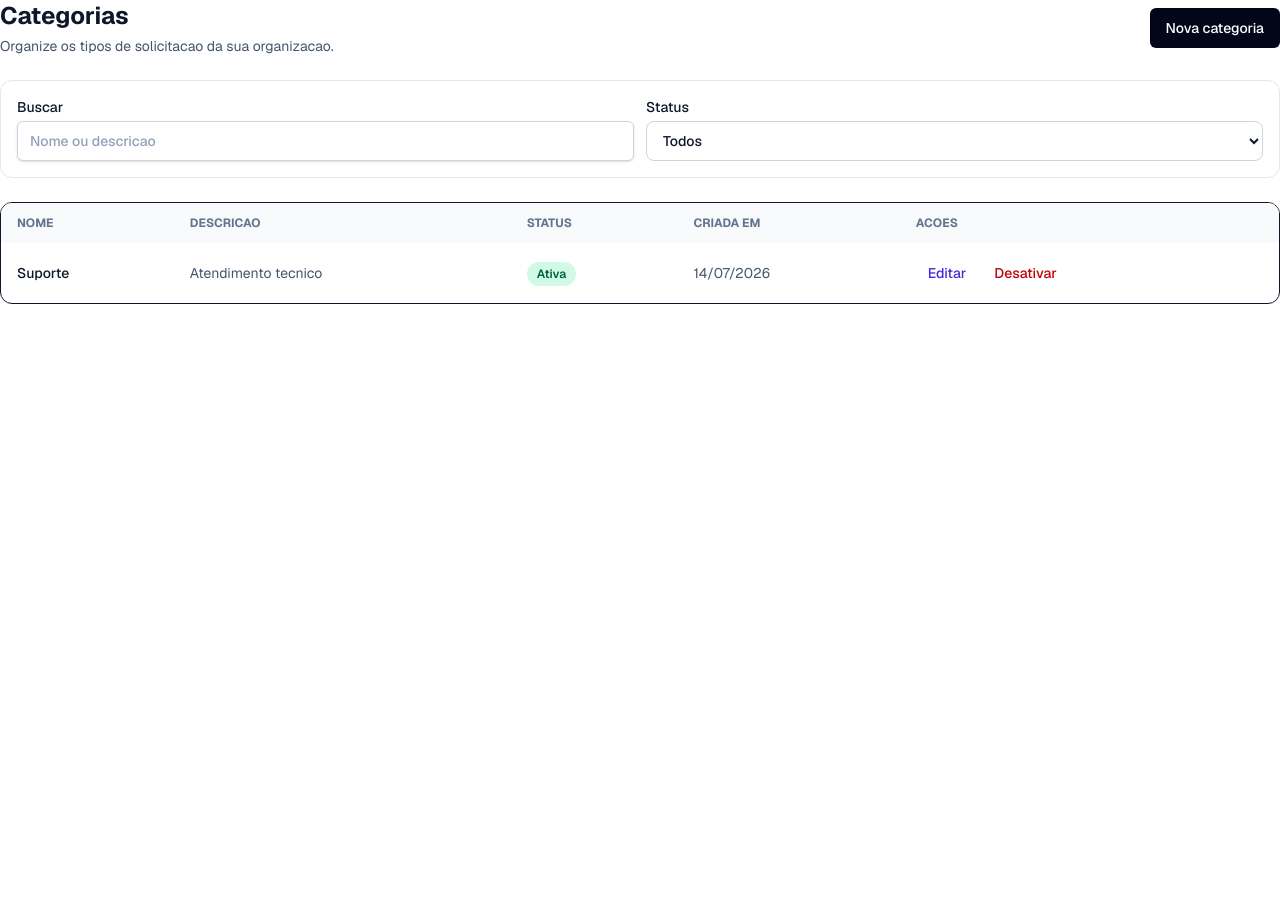
Test: gerenciamento de categorias › cria categoria normalizando descricao vazia para null
The image size is (1280, 900).
Expected: the text "Suporte" is shown, [1,243,174,303]
Click the button "Nova categoria" at (1215, 28), box [1150,8,1279,48]
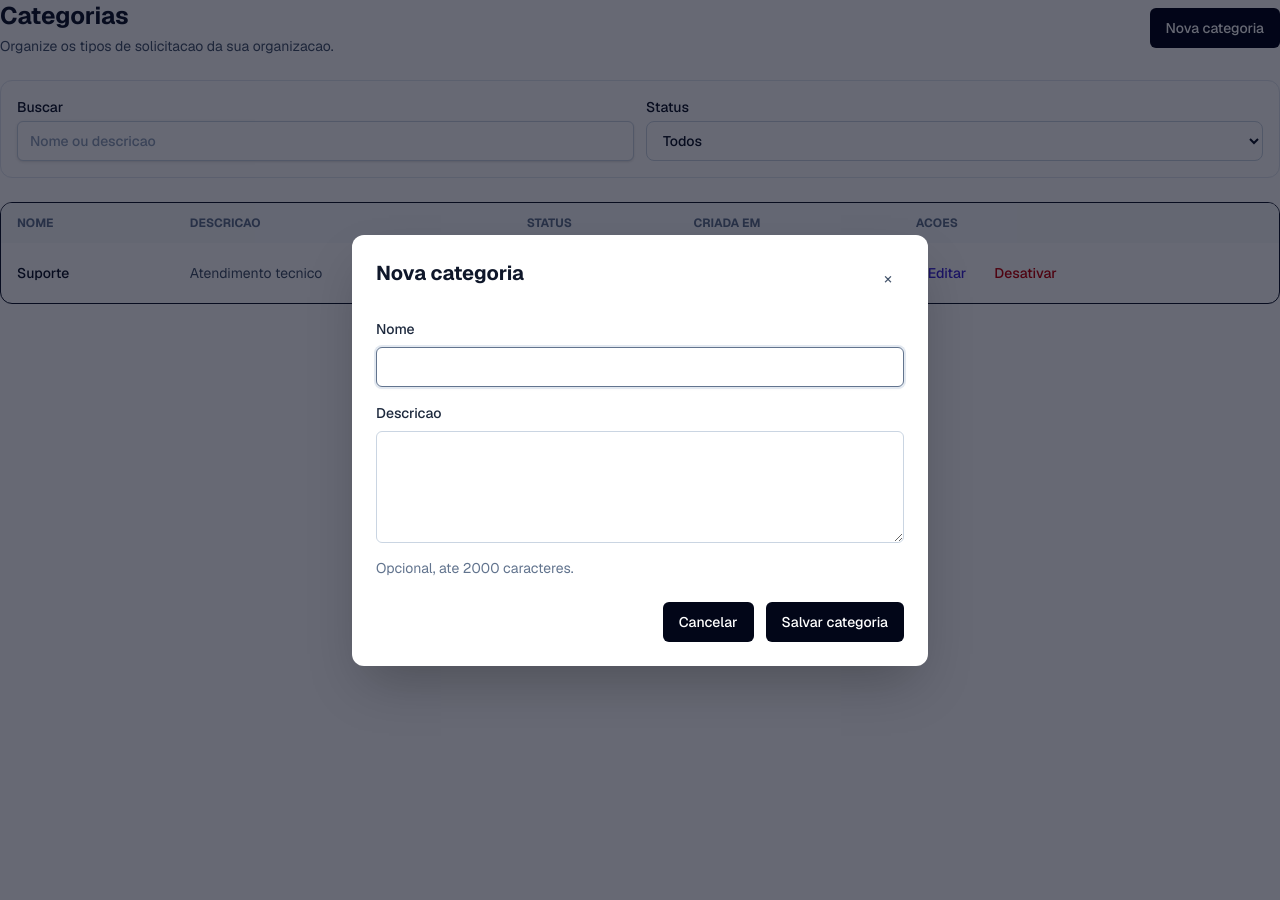
Type "Financeiro" into the field labelled "Nome" at (640, 366), box [376,346,904,386]
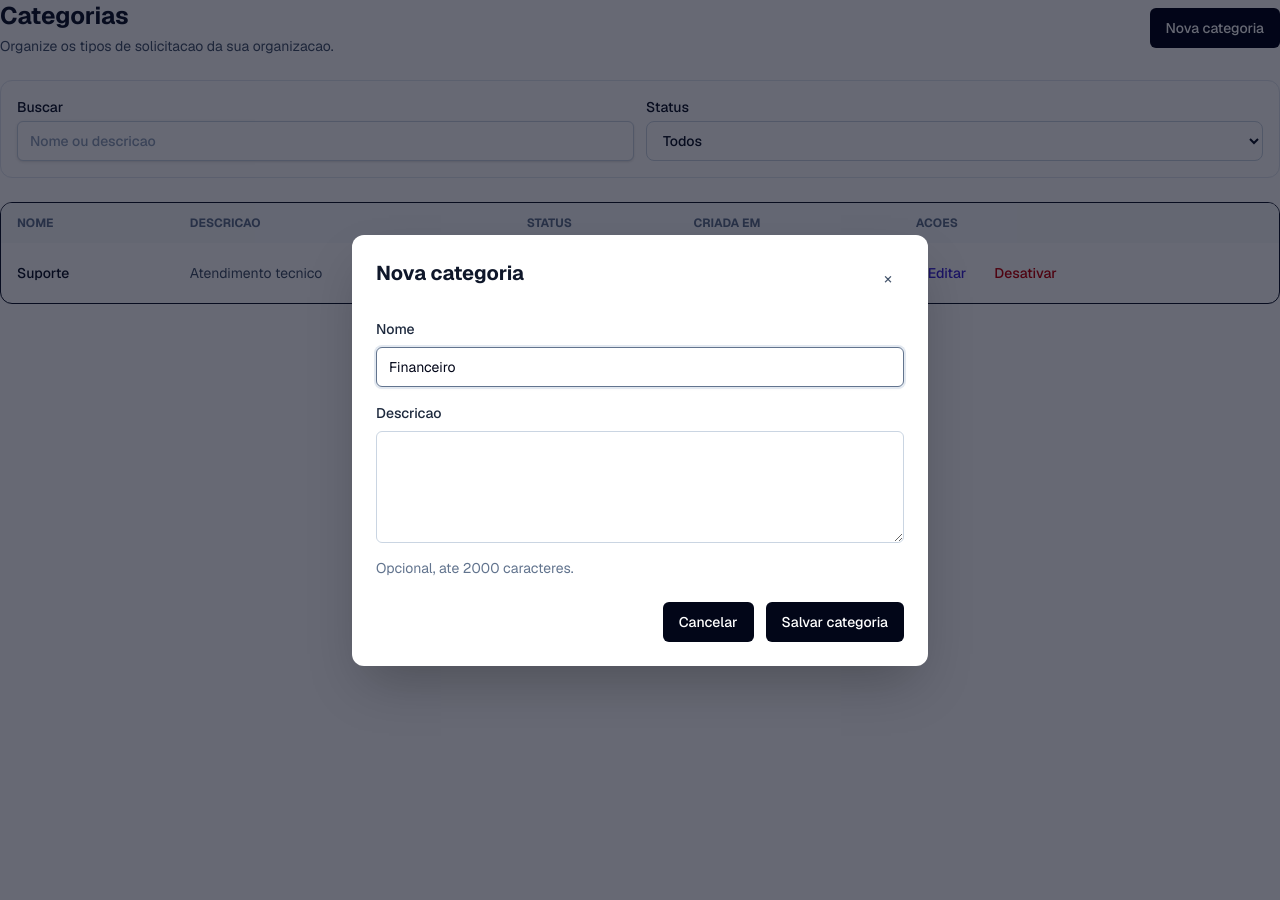
Click the button "Salvar categoria" at (835, 622), box [766,602,904,642]
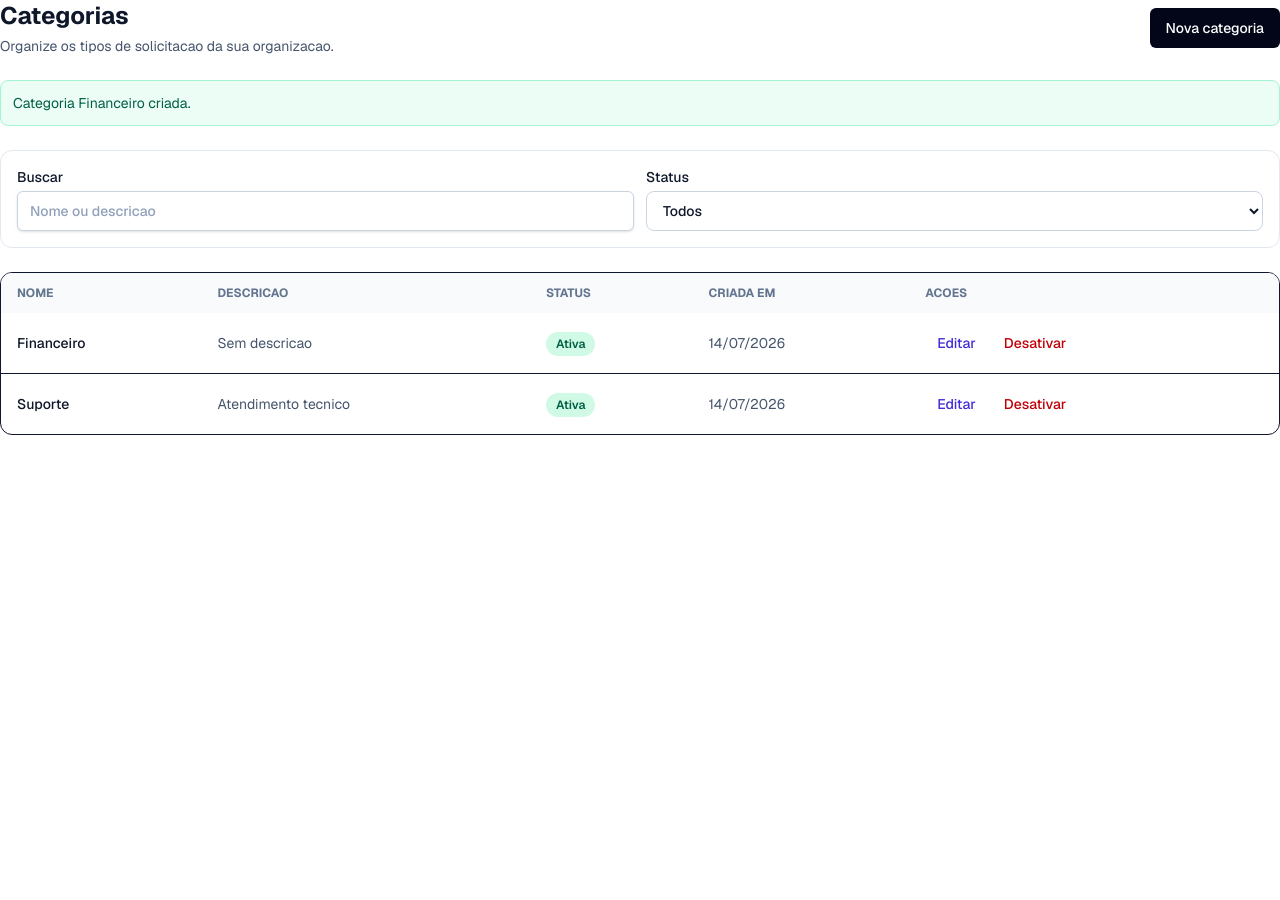
Expected: the text "Categoria Financeiro criada." is shown, [0,80,1279,126]
